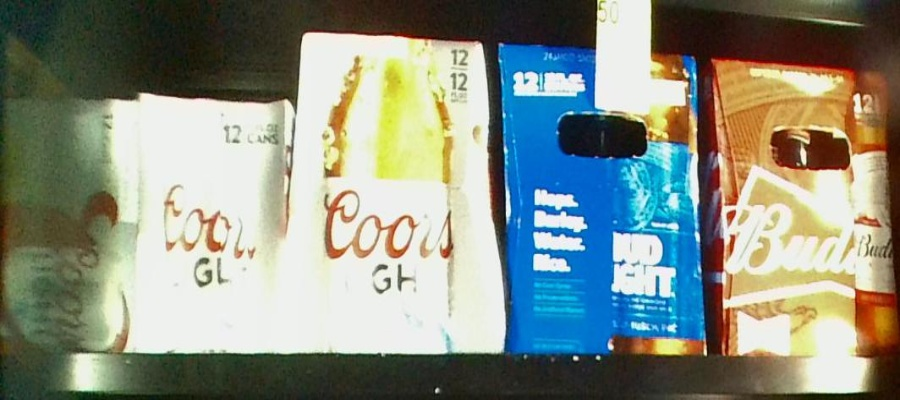bottle: (294, 32, 493, 359), (496, 46, 705, 354), (711, 57, 900, 348), (138, 92, 290, 349), (1, 90, 134, 350)
